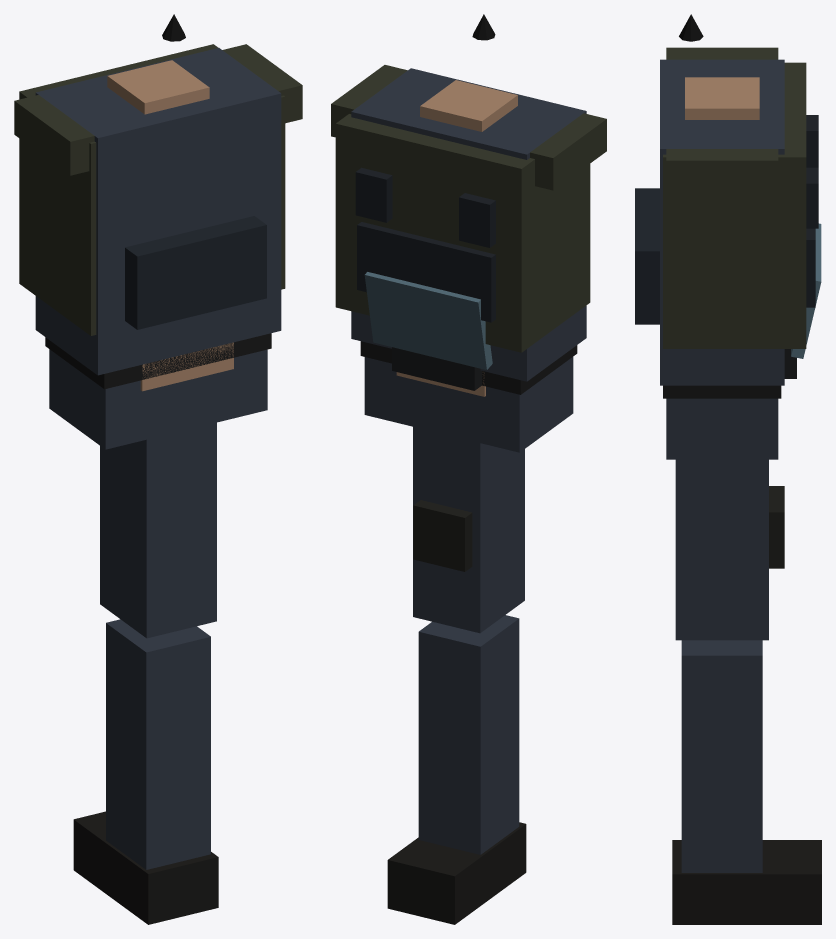
Rendered from operator_montagne.glb.
3 views of the same model, side by side, from view 1: azimuth 30°, elevation 25°; view 2: azimuth 150°, elevation 25°; view 3: azimuth 270°, elevation 25° (orthographic). The views are drawn at different scales.
Parts seen in each view (by area): view 1: torso, legL, hips, head; view 2: torso, legL, hips, head; view 3: torso, legL, hips, head.
Part boxes in pixels (x1,y1,x2,y2): torso: (14,14,302,375); legL: (73,422,218,924); hips: (45,333,271,449); head: (125,216,266,391); torso: (331,14,606,381); legL: (387,427,526,924); hips: (360,341,577,452); head: (364,272,492,396); torso: (660,14,818,385); legL: (672,459,821,924); hips: (663,385,781,459); head: (635,188,821,378).
Bounding box in the file's own units: 0.43 × 1.58 × 0.3.
